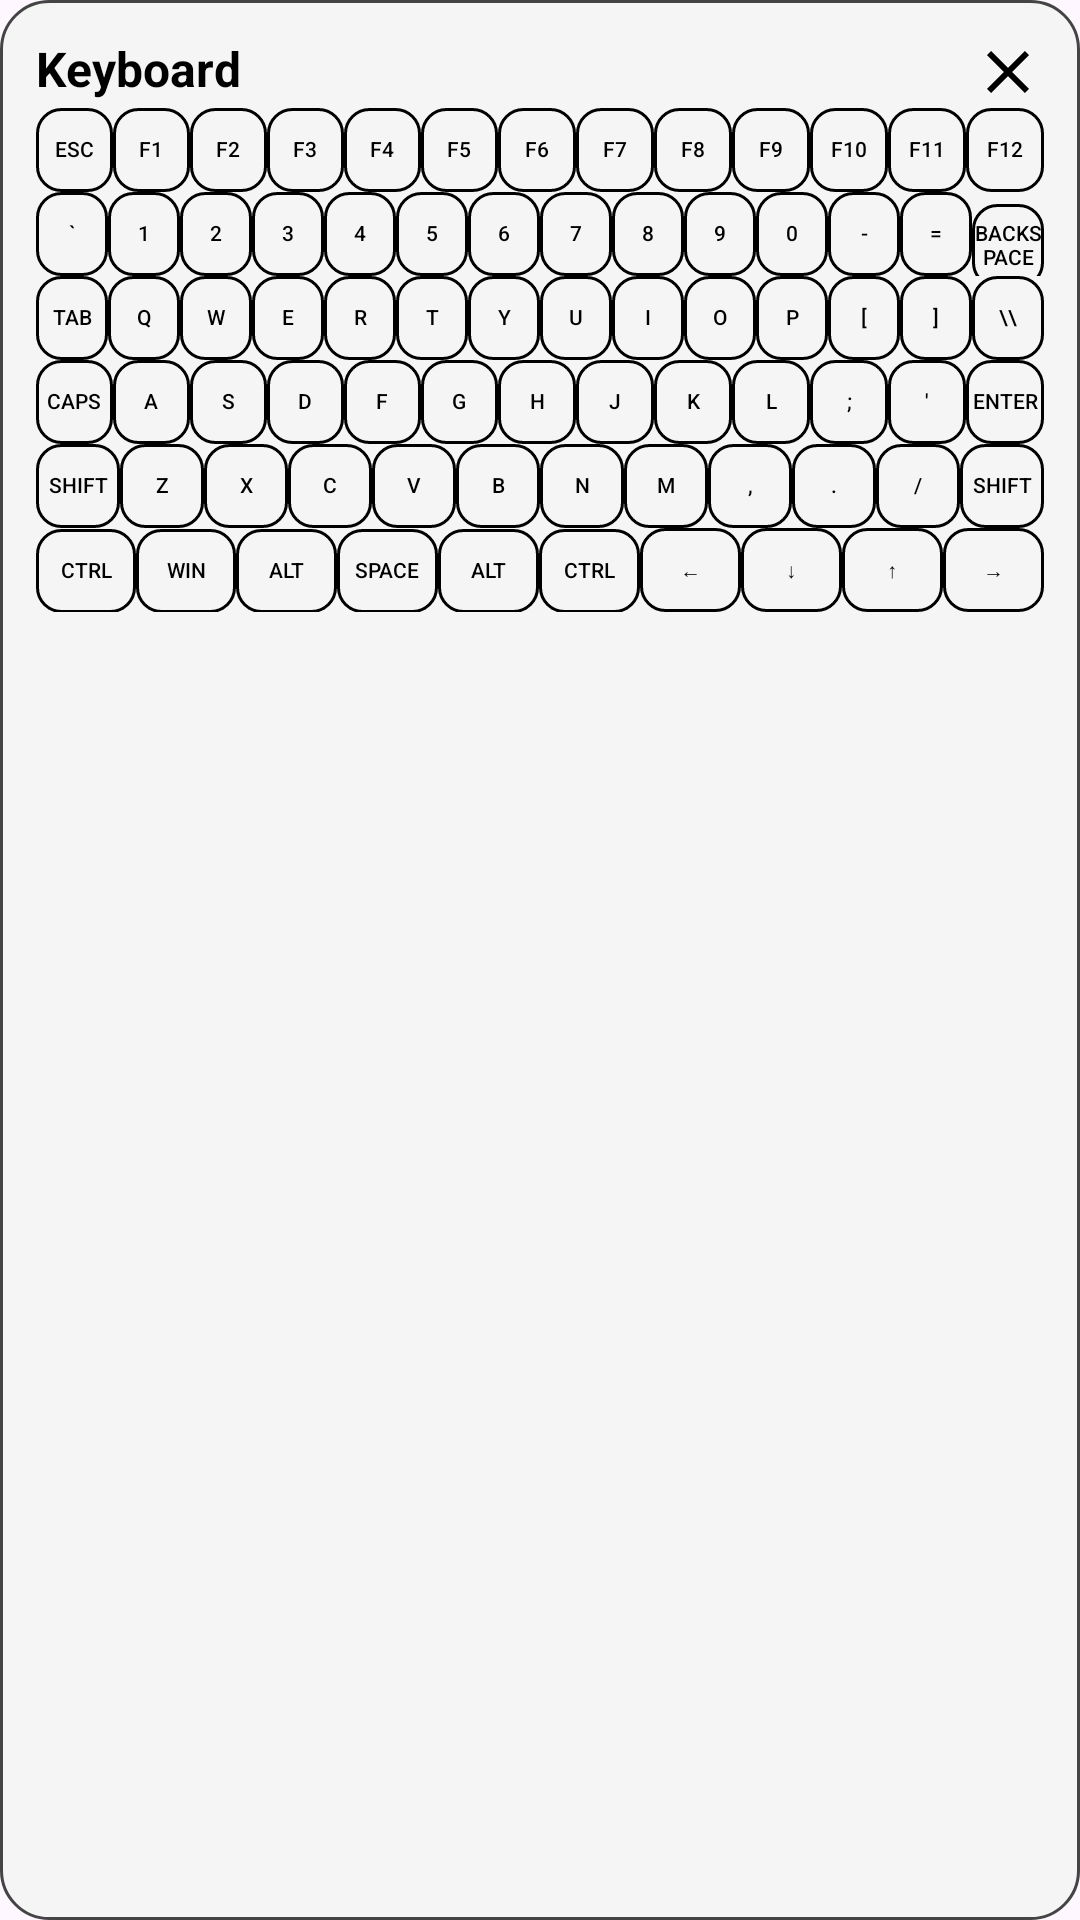

Icon bounding boxes for this 1080×1920 phone screenshot, format (x1, y1, x2, y2):
Close: (987, 51, 1029, 93)
